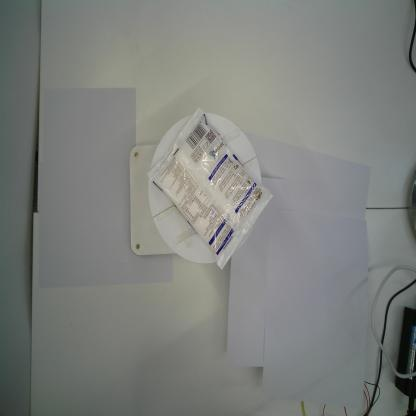Seasoner: (144, 102, 273, 270)
